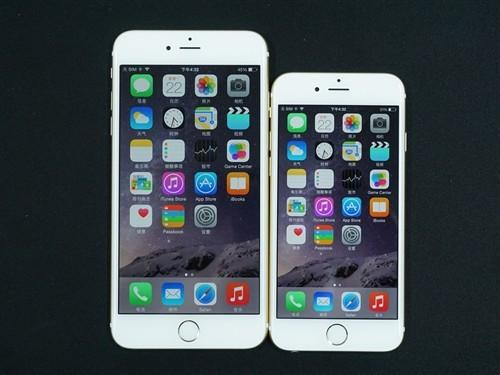phone: (107, 28, 268, 349), (269, 72, 405, 354)
